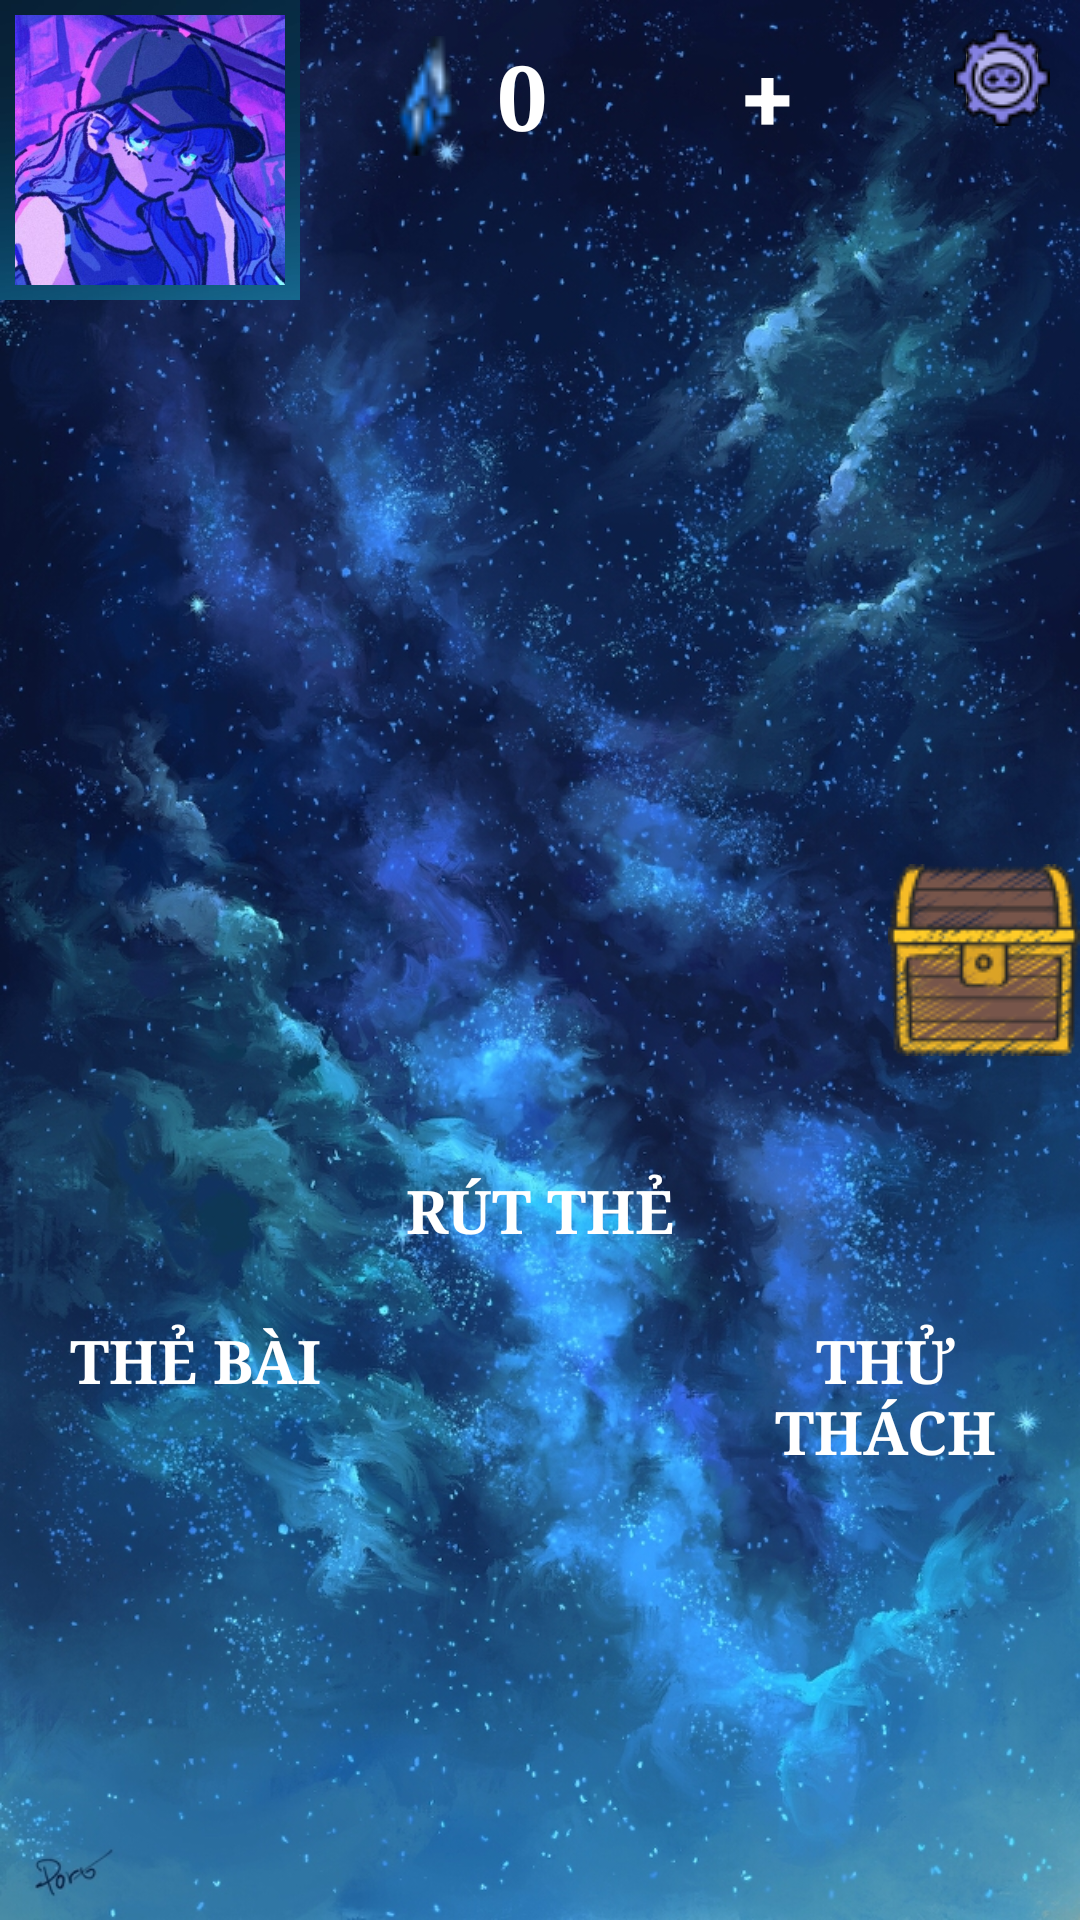

Named icons in this screenshot (1080*1920) and their centers, (x,y):
avt: (150,150)
crystal: (426,96)
ruong: (984,960)
settings: (1002,78)
